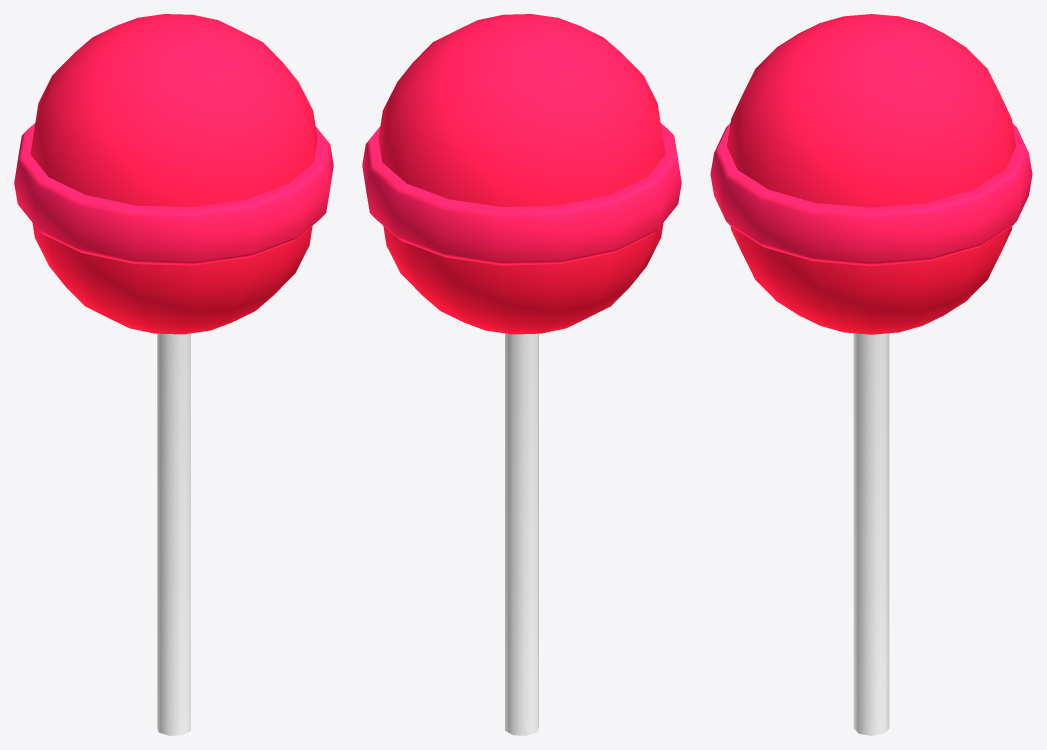
The model's file is Lollipop_06.glb.
3 views of the same model, side by side, from view 1: azimuth 30°, elevation 25°; view 2: azimuth 150°, elevation 25°; view 3: azimuth 270°, elevation 25° (orthographic).
Parts seen in each view (by area): view 1: Lollipop_06; view 2: Lollipop_06; view 3: Lollipop_06.
Boxes of the visible parts, box(x1,y1,x2,y2) form: Lollipop_06: box(14, 14, 333, 735); Lollipop_06: box(362, 14, 681, 735); Lollipop_06: box(710, 14, 1032, 735).
Bounding box in the file's own units: 2.64 × 6.34 × 2.64.
1 material, 1 textured.
